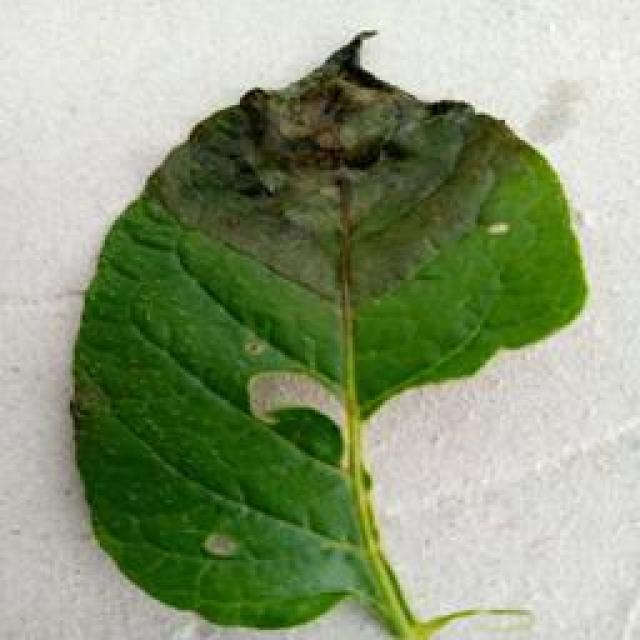late_blight: (62, 25, 590, 637)
